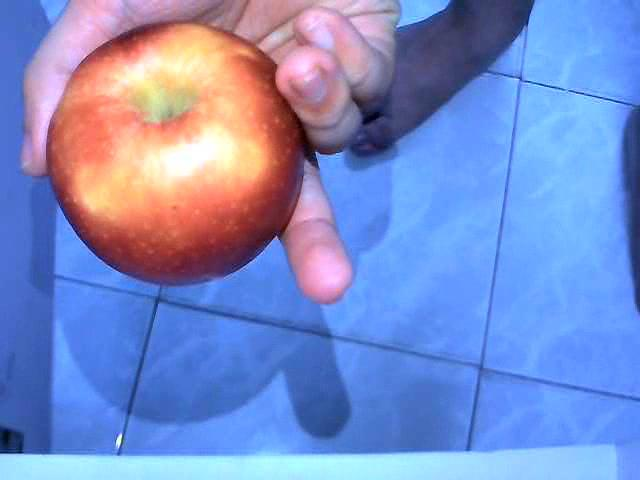apple: (47, 23, 308, 284)
